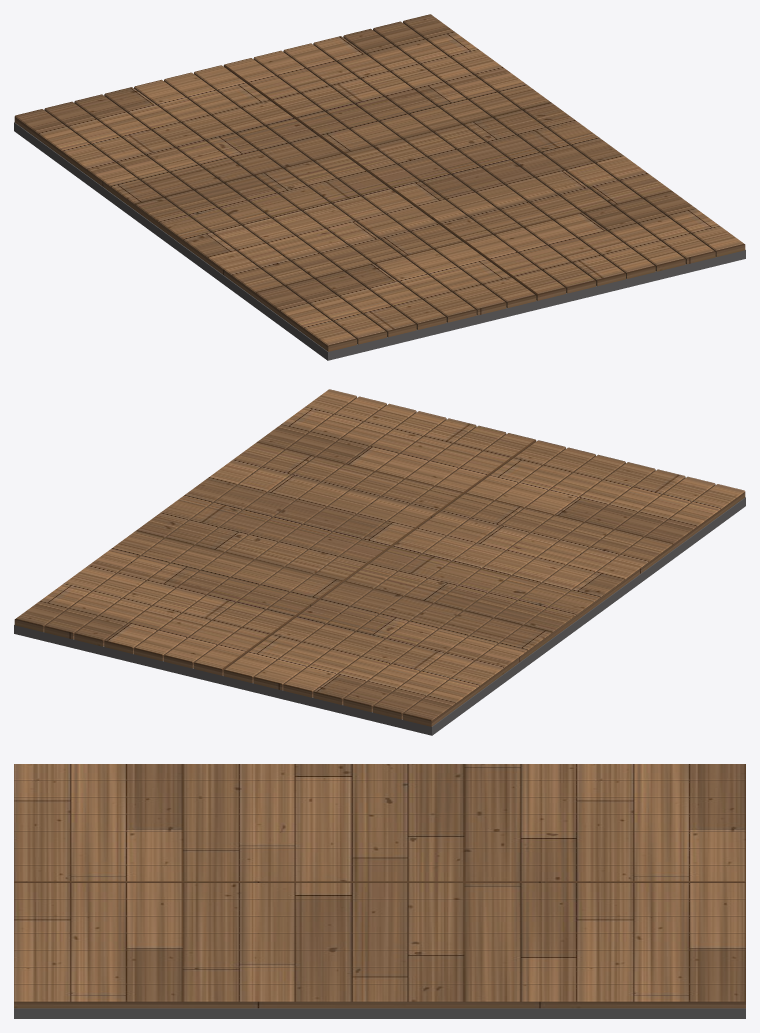
File: porch_deck.glb
3 renders of one model, top to bottom at view 1: azimuth 30°, elevation 25°; view 2: azimuth 150°, elevation 25°; view 3: azimuth 270°, elevation 25°, orthographic. The views are drawn at different scales.
Visible parts, largest first — view 1: porch_deck_deck, porch_deck_dark; view 2: porch_deck_deck, porch_deck_dark; view 3: porch_deck_deck, porch_deck_dark.
Boxes of the visible parts, box(x1,y1,x2,y2) form: porch_deck_deck: box(14, 14, 745, 351); porch_deck_dark: box(14, 122, 745, 360); porch_deck_deck: box(14, 389, 745, 726); porch_deck_dark: box(14, 497, 745, 735); porch_deck_deck: box(14, 764, 745, 1008); porch_deck_dark: box(14, 1008, 745, 1018).
Size of the model in its own units: 2 by 0.07 by 2.6.
2 materials, 1 textured.
